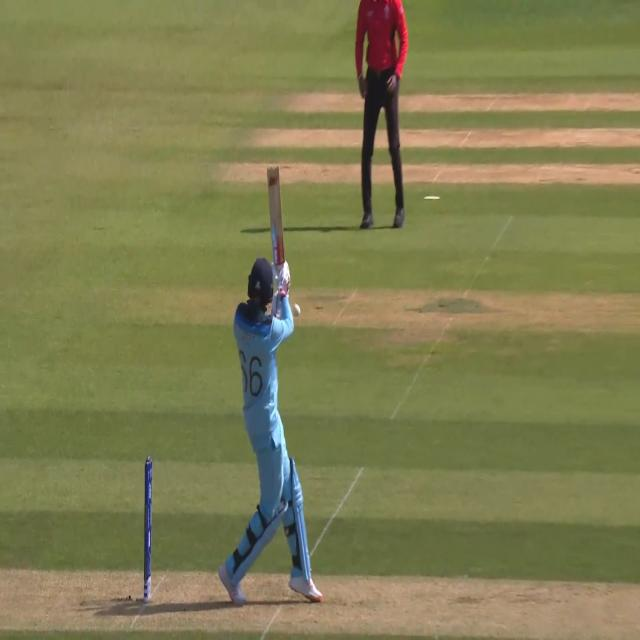ball: (292, 302, 304, 320)
